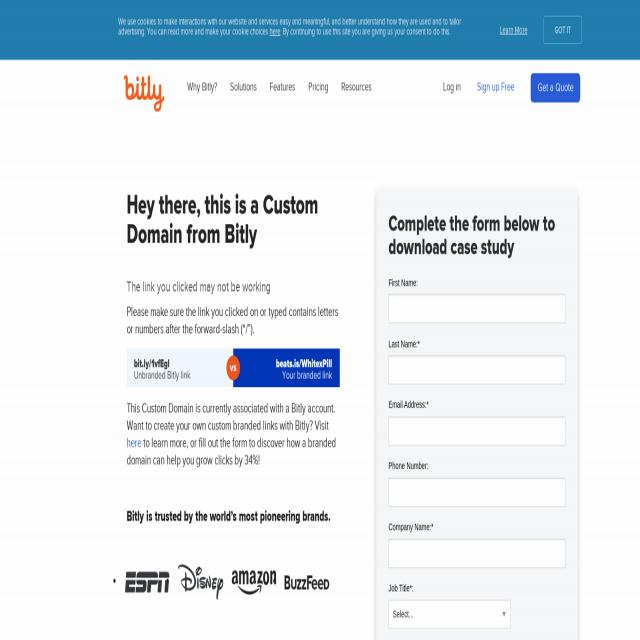button: (126, 349, 340, 387), (123, 553, 171, 611), (176, 553, 224, 611), (230, 553, 278, 611), (283, 553, 331, 611), (469, 73, 523, 101), (124, 75, 164, 112), (530, 74, 580, 102), (334, 73, 378, 101), (181, 73, 223, 101), (223, 73, 263, 101), (263, 73, 302, 101), (543, 17, 583, 42), (435, 73, 469, 101), (302, 73, 334, 101)
field: (389, 354, 565, 385), (388, 477, 566, 507), (388, 294, 566, 323), (389, 415, 565, 444), (389, 540, 566, 566), (388, 601, 511, 627)
